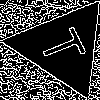T: (37, 21, 97, 68)
